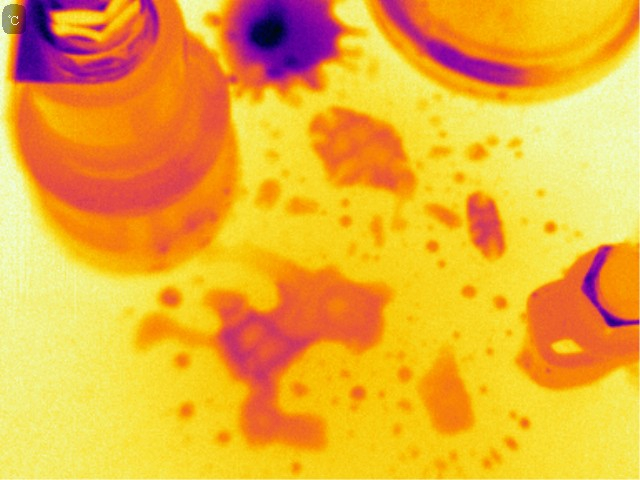Water: (116, 253, 403, 458), (221, 1, 348, 90), (309, 102, 413, 197), (415, 347, 480, 440), (464, 189, 511, 257), (422, 203, 460, 231), (150, 280, 183, 309), (255, 176, 281, 211), (286, 196, 318, 220), (507, 404, 535, 430), (370, 213, 388, 249), (174, 398, 196, 423), (394, 396, 418, 416), (394, 363, 414, 386), (483, 446, 502, 470), (349, 381, 370, 402), (171, 351, 189, 372), (203, 10, 221, 31), (471, 140, 486, 164), (287, 453, 305, 473), (425, 146, 457, 157), (215, 429, 232, 449), (503, 433, 520, 453), (362, 247, 384, 261), (290, 382, 308, 398), (345, 239, 358, 260), (462, 283, 477, 300), (424, 239, 442, 253), (487, 130, 501, 148), (544, 217, 557, 236), (506, 135, 524, 148), (336, 214, 352, 227), (392, 421, 402, 439), (495, 293, 505, 309), (337, 198, 351, 209), (535, 185, 545, 198), (520, 212, 528, 225), (438, 261, 448, 268)
